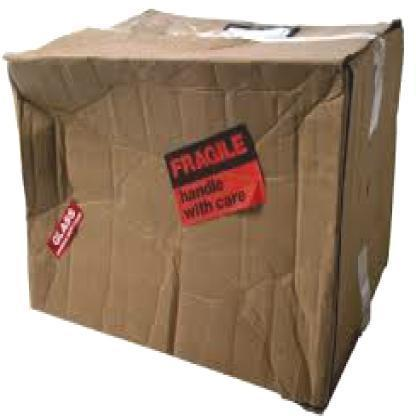box: (0, 4, 411, 414)
